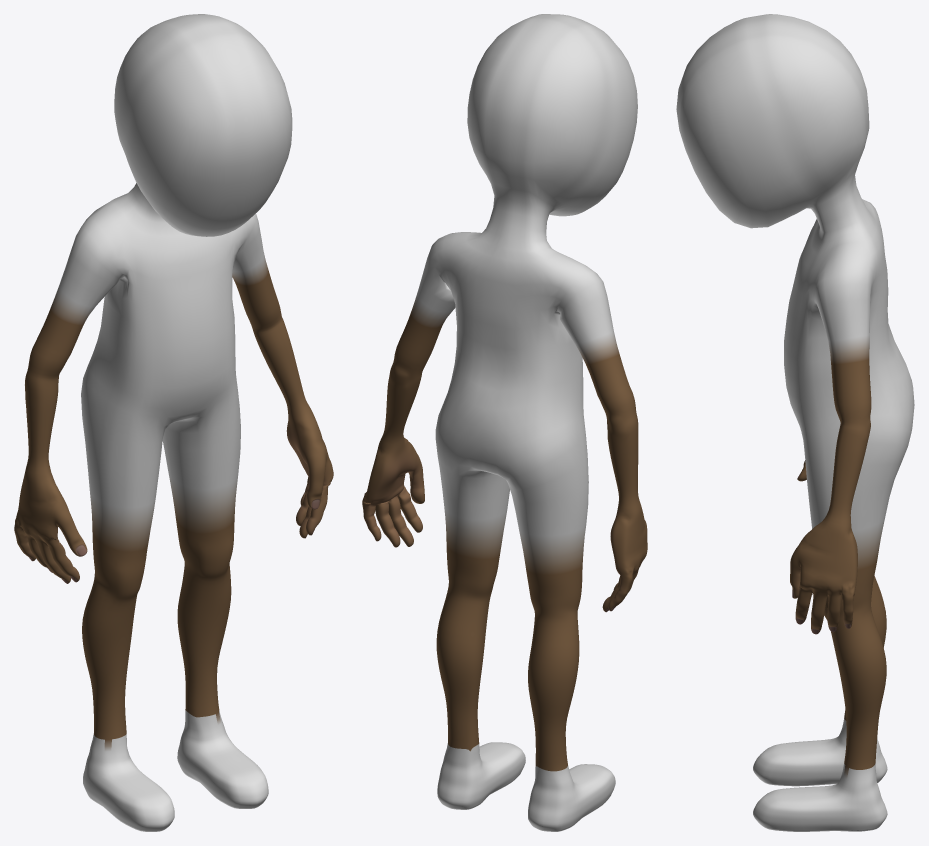
Rendered from PlayerModelGame.fbx.
The picture shows the model from 3 angles, left to right: view 1: azimuth 30°, elevation 25°; view 2: azimuth 150°, elevation 25°; view 3: azimuth 270°, elevation 25°; orthographic projection. The views are drawn at different scales.
Visible parts, largest first — view 1: Character.001; view 2: Character.001; view 3: Character.001.
Boxes of the visible parts, bbox=[...] form: Character.001: bbox=[14, 14, 333, 831]; Character.001: bbox=[362, 14, 647, 831]; Character.001: bbox=[676, 14, 914, 831].
Size of the model in its own units: 84.27 by 219 by 60.62.
